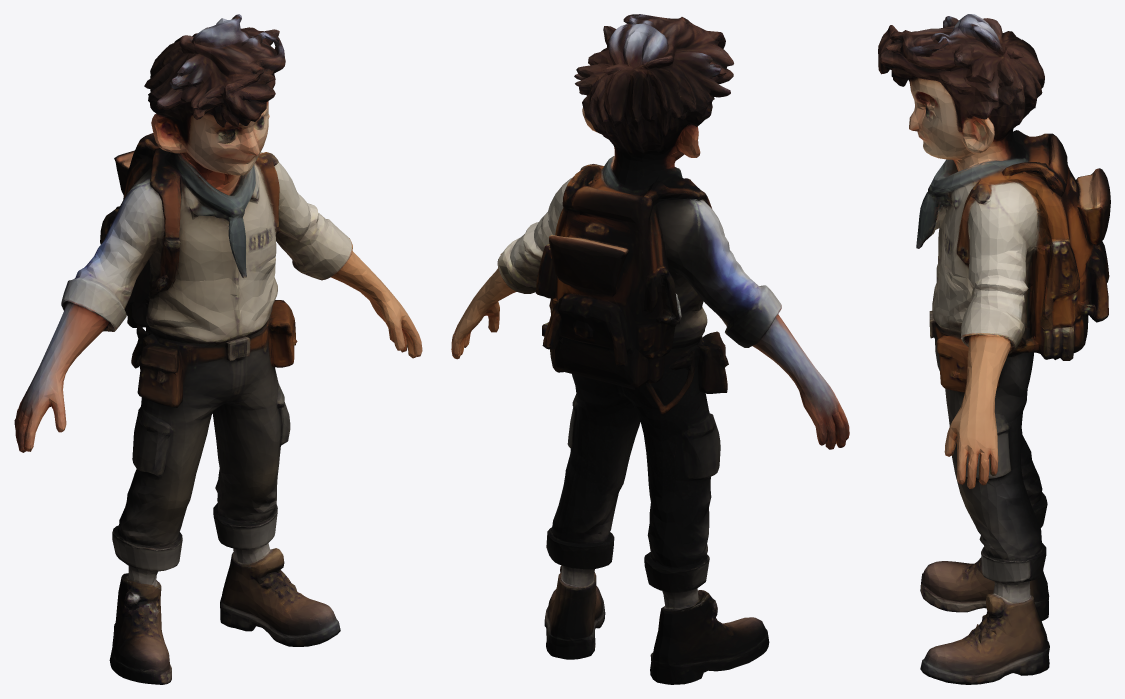
File: character.glb
3 renders of one model, left to right at view 1: azimuth 30°, elevation 25°; view 2: azimuth 150°, elevation 25°; view 3: azimuth 270°, elevation 25°, orthographic. The views are drawn at different scales.
Visible parts, largest first — view 1: world; view 2: world; view 3: world.
Boxes of the visible parts, x1,y1,x2,y2 form: world: [14, 14, 422, 684]; world: [451, 14, 849, 684]; world: [878, 14, 1110, 684].
Bounding box in the file's own units: 0.6626 × 1 × 0.3375.
1 material, 1 textured.
